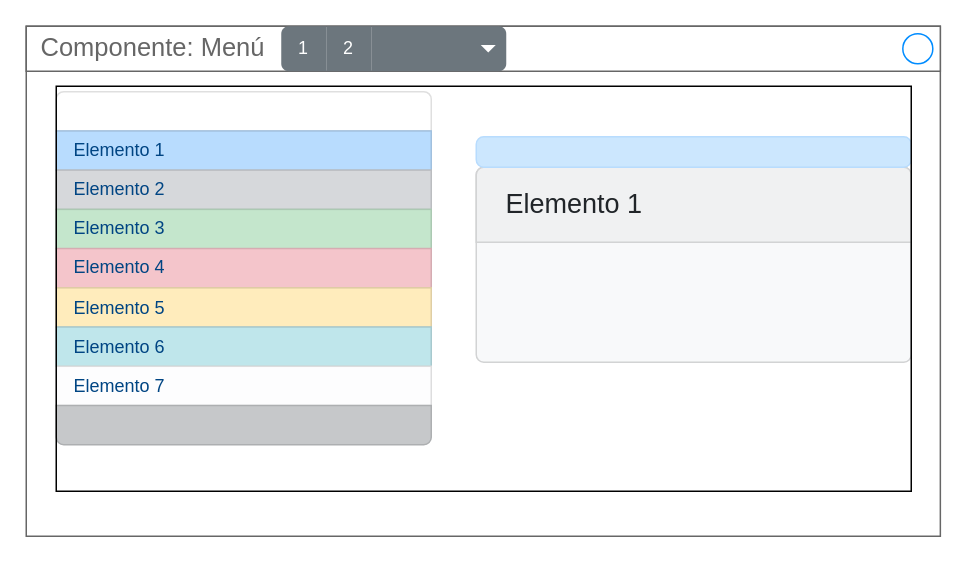
Some shapes in this 968 by 563 pixel diagram are drawn without their labels. Each missing label, with the box of its shape:
Componente: Detalle_elemento: (475, 135, 911, 167)
Componente: lista_elementos: (55, 90, 431, 131)
Dropdown: (370, 26, 506, 70)
Elemento 8: (55, 404, 431, 445)
Título Datos del elemento 1: (475, 166, 911, 362)
